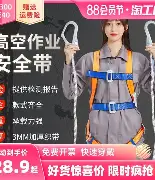safety belt: (85, 49, 148, 150)
